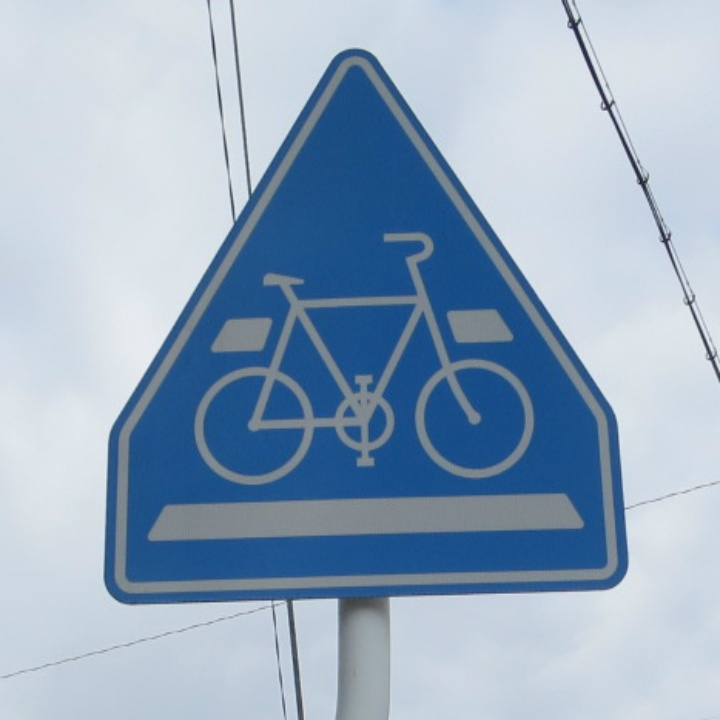bicycle: (193, 225, 534, 479)
